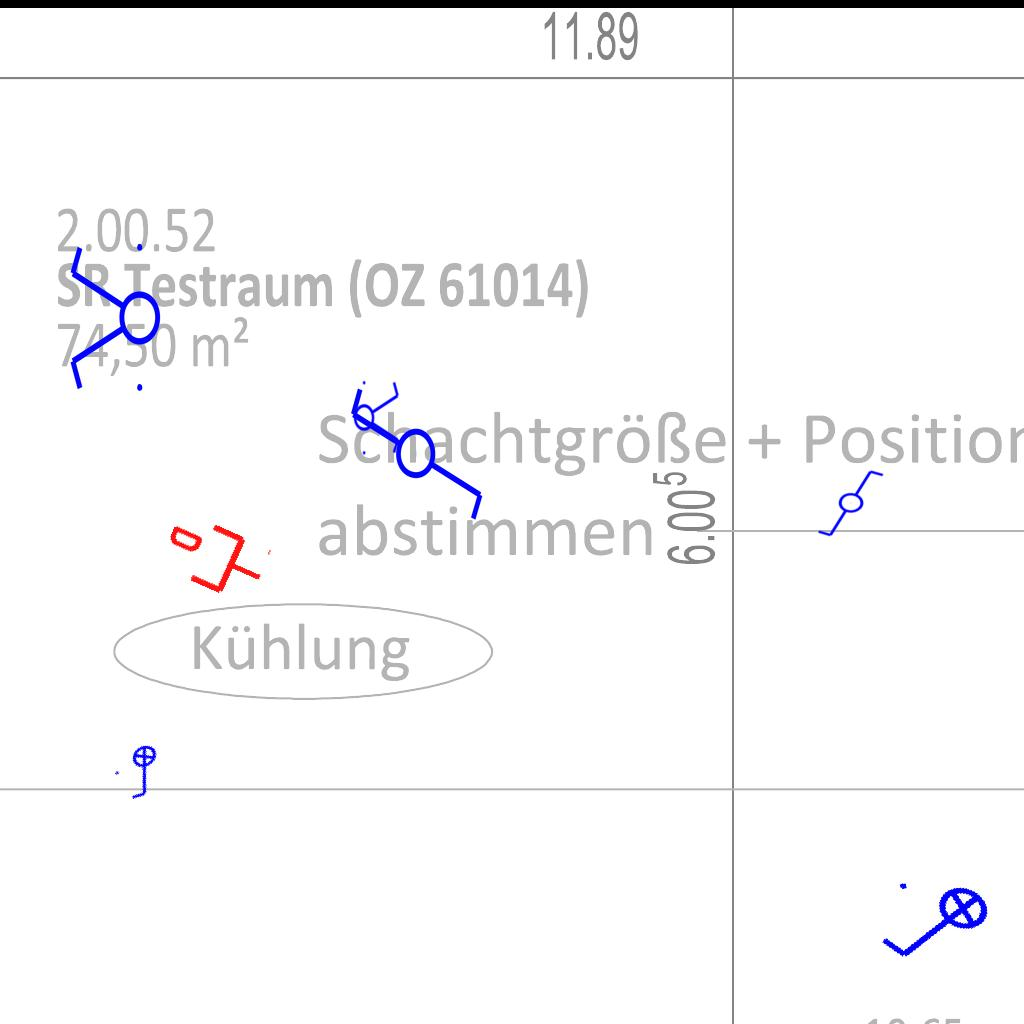Ausschalter_beleuchtet: (868, 862, 1008, 992), (107, 736, 181, 808)
Datenanschluss_einfach: (155, 506, 276, 610)
Serienschalter: (66, 235, 162, 403), (353, 375, 401, 459)
Wechselschalter: (346, 367, 490, 524), (816, 468, 894, 540)
